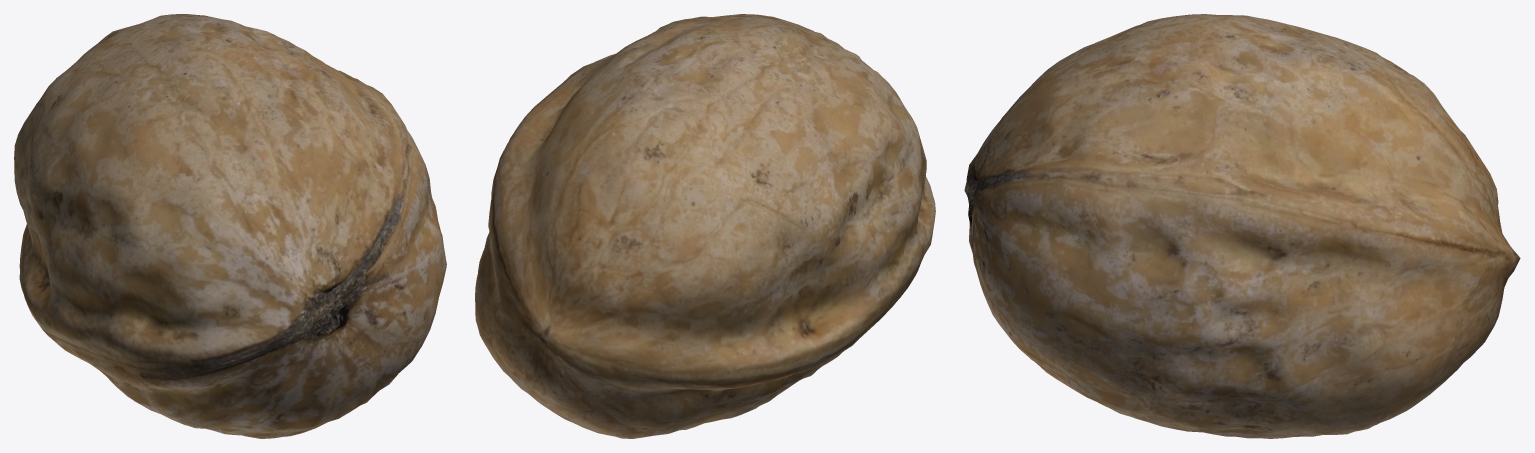
File: walnut_LP.fbx
3 views of the same model, side by side, from view 1: azimuth 30°, elevation 25°; view 2: azimuth 150°, elevation 25°; view 3: azimuth 270°, elevation 25° (orthographic). The views are drawn at different scales.
Visible parts, largest first — view 1: nut_LP; view 2: nut_LP; view 3: nut_LP.
Part boxes in pixels (x1,y1,x2,y2): nut_LP: (14,14,446,438); nut_LP: (475,14,935,438); nut_LP: (964,14,1520,438).
Bounding box in the file's own units: 14.57 × 14.7 × 19.45.
Materials: 1 (1 with a texture image).
